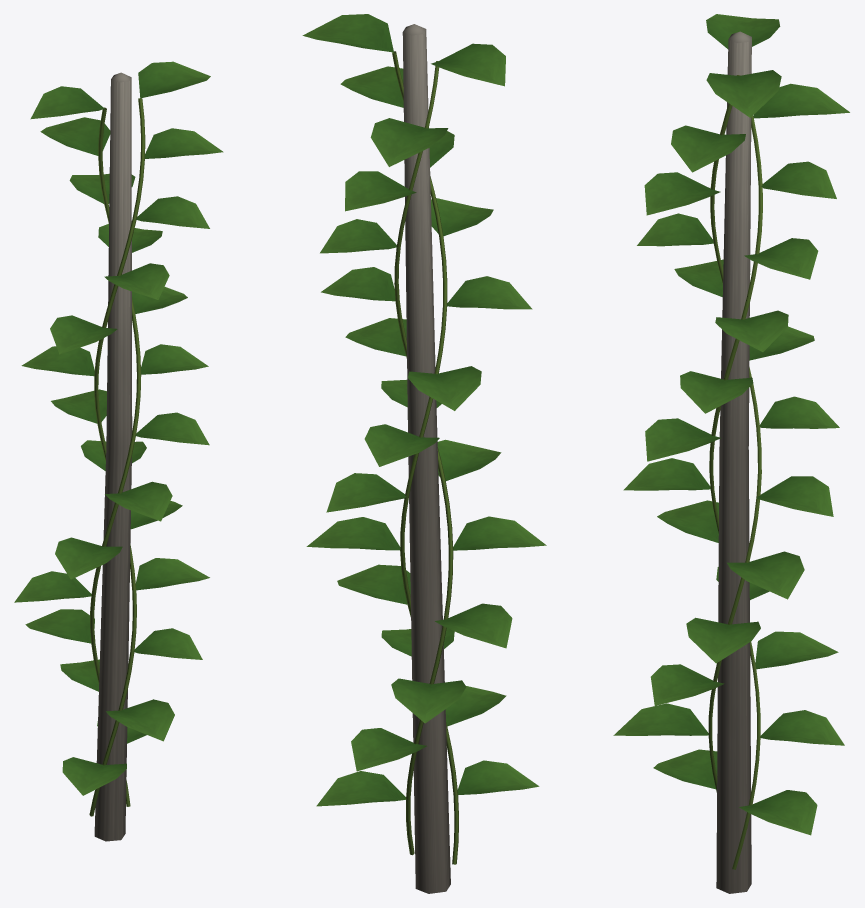
The model's file is hops.glb.
The picture shows the model from 3 angles, left to right: view 1: azimuth 30°, elevation 25°; view 2: azimuth 150°, elevation 25°; view 3: azimuth 270°, elevation 25°; orthographic projection. The views are drawn at different scales.
Visible parts, largest first — view 1: hops; view 2: hops; view 3: hops.
Boxes of the visible parts, <box> form: hops: <box>14,61,223,841</box>; hops: <box>302,14,546,893</box>; hops: <box>613,14,849,893</box>.
Size of the model in its own units: 0.4063 by 1.56 by 0.3899.
Materials: 1 (1 with a texture image).
